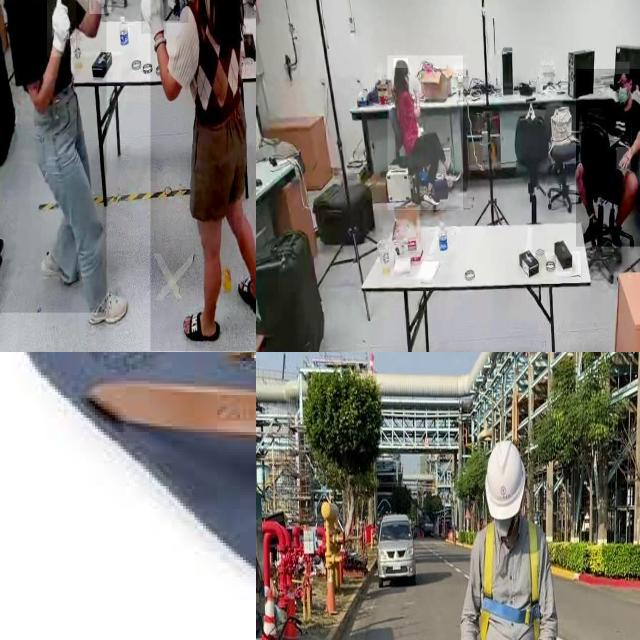Harness: (480, 522, 542, 640)
Sandals: (13, 352, 256, 640)
face_mask: (616, 77, 628, 105)
hand_glove: (47, 0, 76, 56), (141, 0, 166, 34), (163, 0, 188, 22), (89, 0, 112, 14)
hand_noglove: (617, 147, 631, 170), (413, 90, 419, 101)
head_nohelmet: (615, 62, 630, 75), (394, 58, 408, 69)
person: (150, 0, 256, 351), (0, 0, 107, 313), (388, 55, 463, 211), (576, 68, 640, 247)
shoes: (38, 247, 82, 288), (88, 288, 130, 329), (443, 158, 462, 184), (422, 182, 440, 208)
